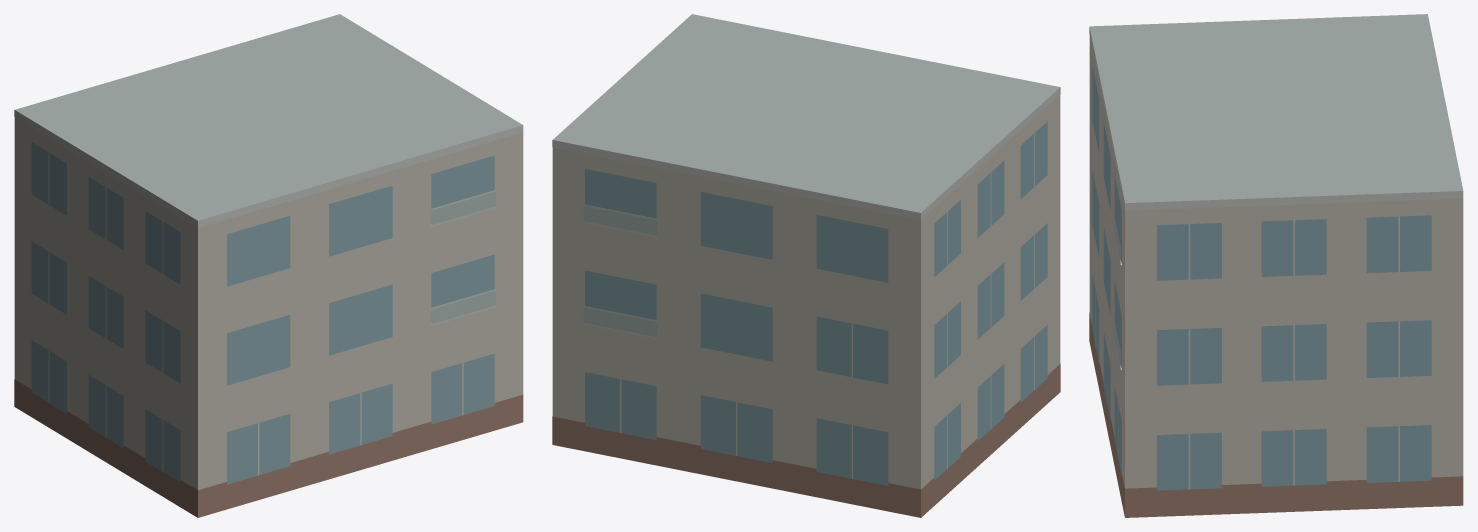
The model's file is survey-upis-32679361.glb.
3 views of the same model, side by side, from view 1: azimuth 30°, elevation 25°; view 2: azimuth 150°, elevation 25°; view 3: azimuth 270°, elevation 25° (orthographic). The views are drawn at different scales.
Parts seen in each view (by area): view 1: survey-upis-32679361.tmp; view 2: survey-upis-32679361.tmp; view 3: survey-upis-32679361.tmp.
Boxes of the visible parts, x1,y1,x2,y2 form: survey-upis-32679361.tmp: (14, 14, 523, 517); survey-upis-32679361.tmp: (552, 14, 1060, 517); survey-upis-32679361.tmp: (1089, 14, 1463, 517).
Bounding box in the file's own units: 13.09 × 10.15 × 10.94.
